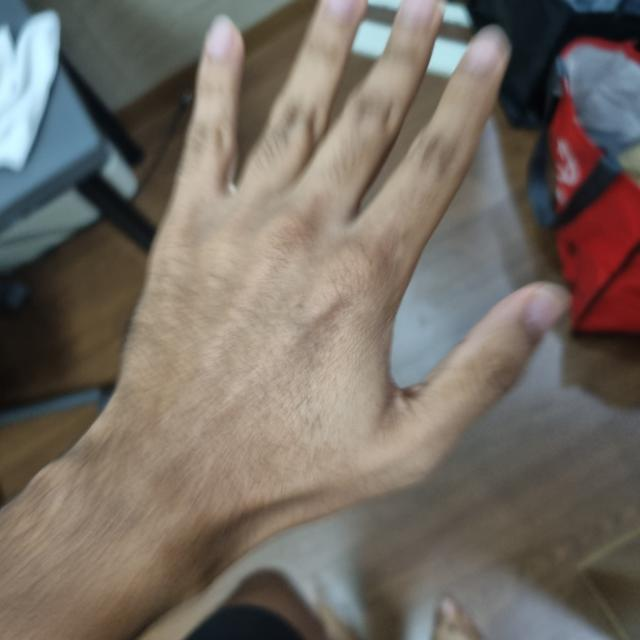Paper: (101, 0, 559, 539)
